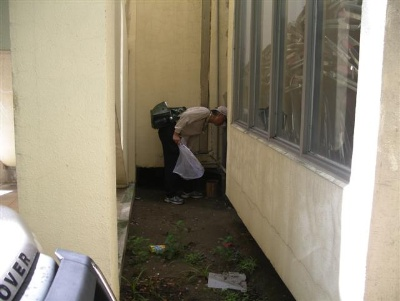bottle: (205, 179, 220, 200)
